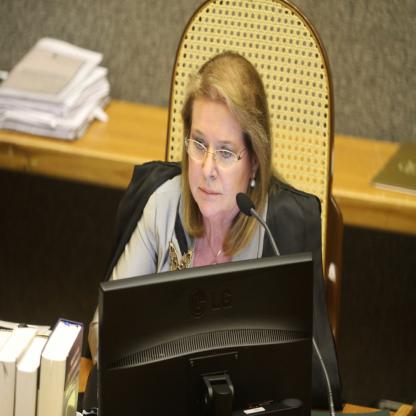book: (36, 318, 85, 416), (0, 322, 36, 416), (14, 332, 49, 415)
